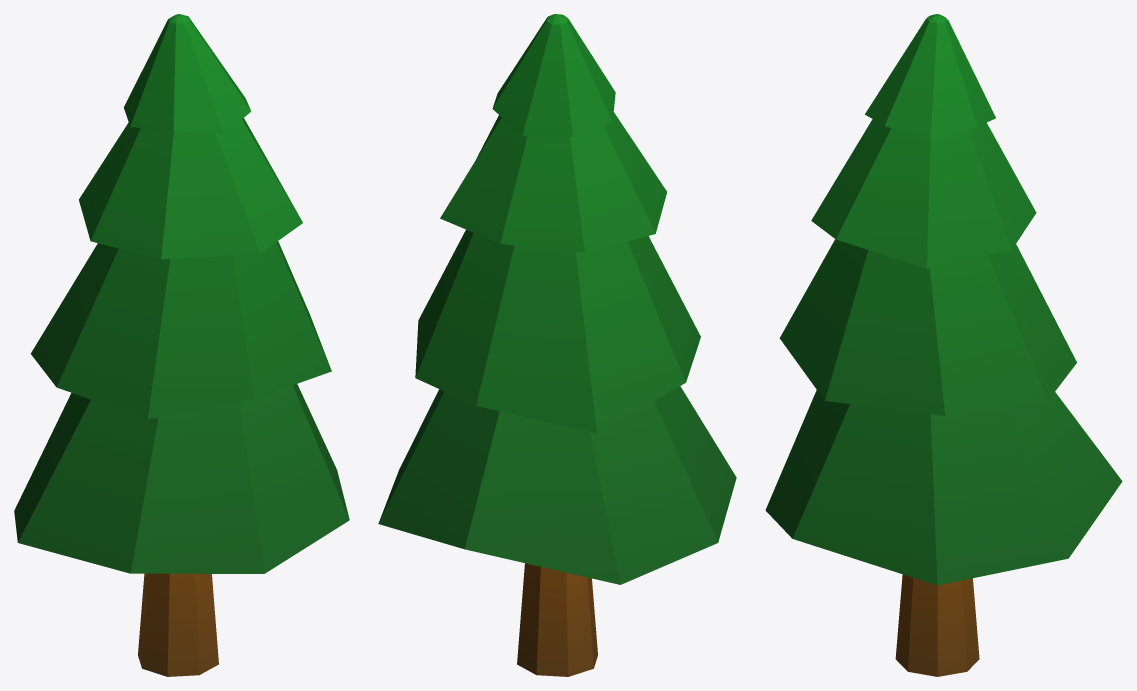
The model's file is Tree_Pine_3.fbx.
The picture shows the model from 3 angles, left to right: view 1: azimuth 30°, elevation 25°; view 2: azimuth 150°, elevation 25°; view 3: azimuth 270°, elevation 25°; orthographic projection.
Visible parts, largest first — view 1: Tree_Pine_3; view 2: Tree_Pine_3; view 3: Tree_Pine_3.
Part boxes in pixels (box(x1,y1,x2,y2)): Tree_Pine_3: box(14, 14, 349, 676); Tree_Pine_3: box(378, 14, 736, 676); Tree_Pine_3: box(765, 14, 1122, 676).
Size of the model in its own units: 423 by 816 by 410.
